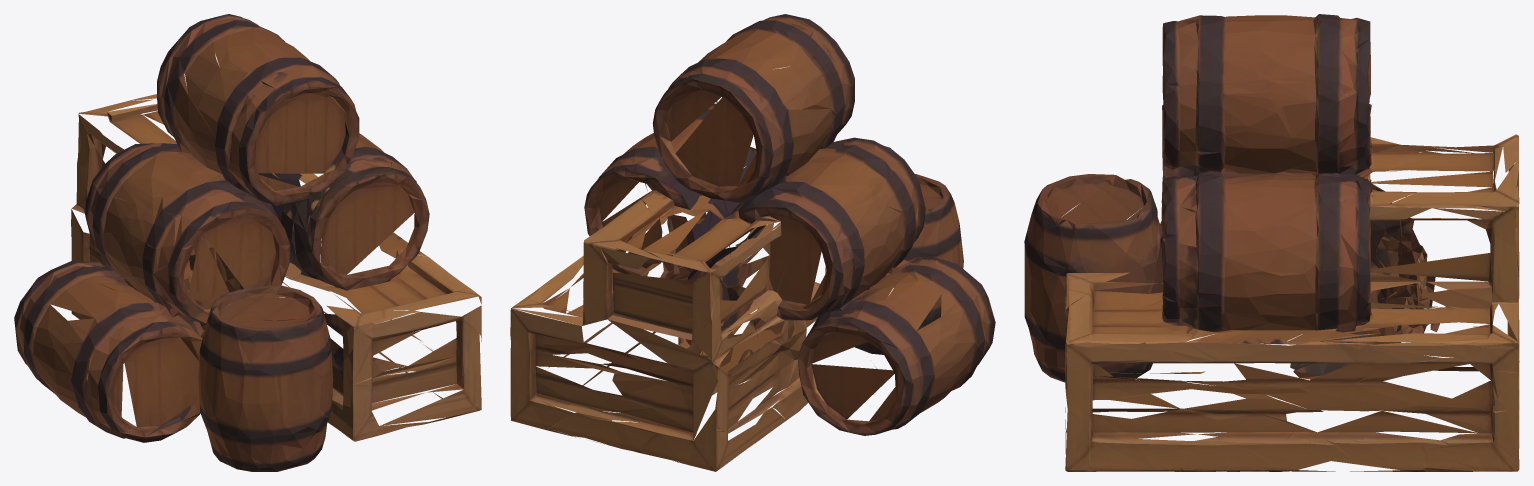
File: barrel_stack.glb
3 views of the same model, side by side, from view 1: azimuth 30°, elevation 25°; view 2: azimuth 150°, elevation 25°; view 3: azimuth 270°, elevation 25° (orthographic). The views are drawn at different scales.
Parts seen in each view (by area): view 1: geometry_0; view 2: geometry_0; view 3: geometry_0.
Boxes of the visible parts, x1,y1,x2,y2 form: geometry_0: (14, 14, 481, 471); geometry_0: (510, 14, 995, 471); geometry_0: (1024, 14, 1519, 471).
Size of the model in its own units: 1.7 by 1.6 by 1.89.
Materials: 1 (1 with a texture image).
